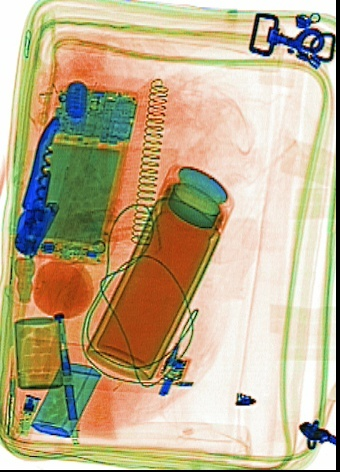knife: (12, 113, 64, 256)
